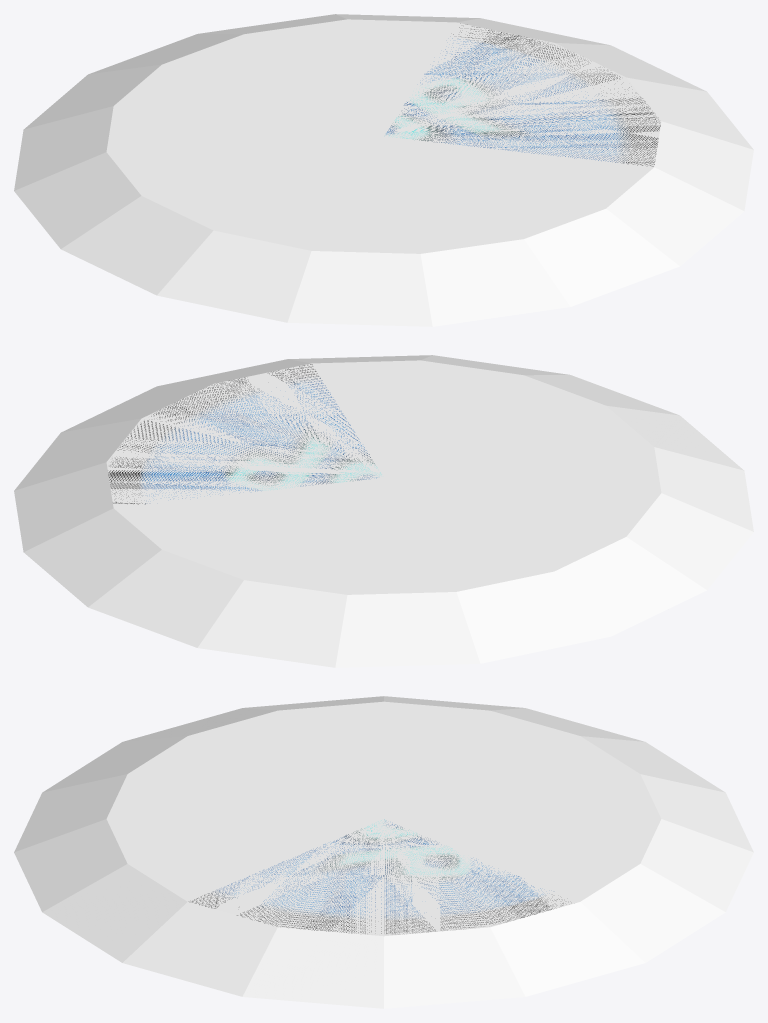
Rendered from endarea.fbx.
The picture shows the model from 3 angles, top to bottom: view 1: azimuth 30°, elevation 25°; view 2: azimuth 150°, elevation 25°; view 3: azimuth 270°, elevation 25°; orthographic projection.
Visible parts, largest first — view 1: Col, pad; view 2: Col, pad; view 3: Col, pad.
Boxes of the visible parts, x1=… form: Col: x1=14, y1=14, x2=753, y2=326; pad: x1=384, y1=23, x2=660, y2=166; Col: x1=14, y1=355, x2=753, y2=667; pad: x1=107, y1=364, x2=381, y2=504; Col: x1=14, y1=696, x2=753, y2=1008; pad: x1=192, y1=819, x2=563, y2=936.
Bounding box in the file's own units: 3.95 × 0.1975 × 3.95.
3 materials, 1 textured.
